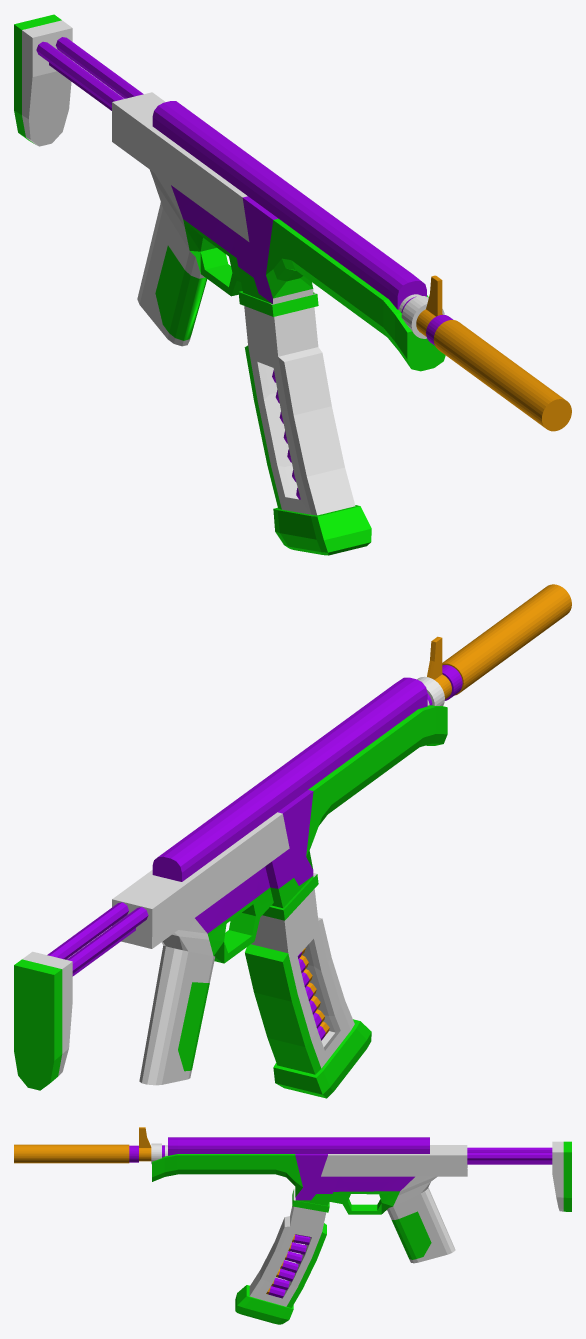
The model's file is blastx.glb.
3 renders of one model, top to bottom at view 1: azimuth 30°, elevation 25°; view 2: azimuth 150°, elevation 25°; view 3: azimuth 270°, elevation 25°, orthographic. The views are drawn at different scales.
Visible parts, largest first — view 1: body, magazine, rearstock, barrel; view 2: body, magazine, rearstock, barrel; view 3: body, magazine, barrel, rearstock.
Boxes of the visible parts, bbox=[...] form: body: bbox=[112, 92, 445, 371]; magazine: bbox=[244, 306, 371, 555]; rearstock: bbox=[14, 14, 143, 146]; barrel: bbox=[399, 275, 571, 431]; body: bbox=[112, 677, 447, 1085]; magazine: bbox=[245, 889, 371, 1098]; rearstock: bbox=[14, 902, 148, 1090]; barrel: bbox=[417, 584, 571, 705]; body: bbox=[152, 1137, 467, 1263]; magazine: bbox=[235, 1206, 326, 1324]; barrel: bbox=[14, 1127, 167, 1164]; rearstock: bbox=[467, 1141, 571, 1211].
Bounding box in the file's own units: 2.5 × 17.09 × 45.
